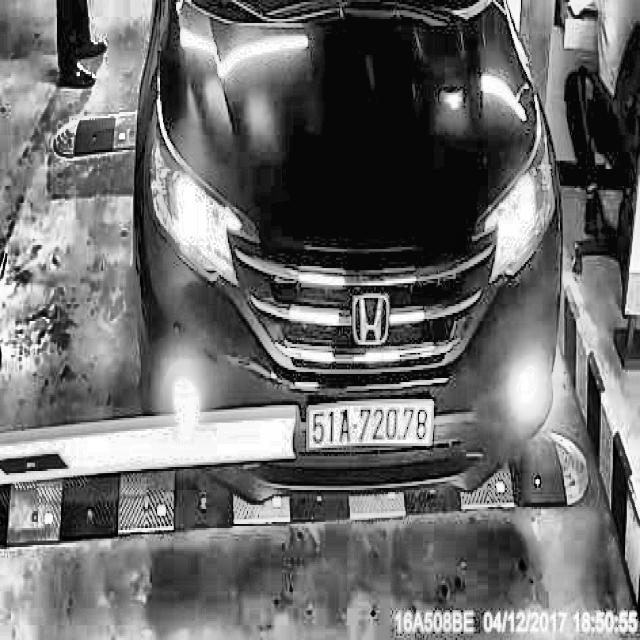plate: (302, 395, 438, 460)
